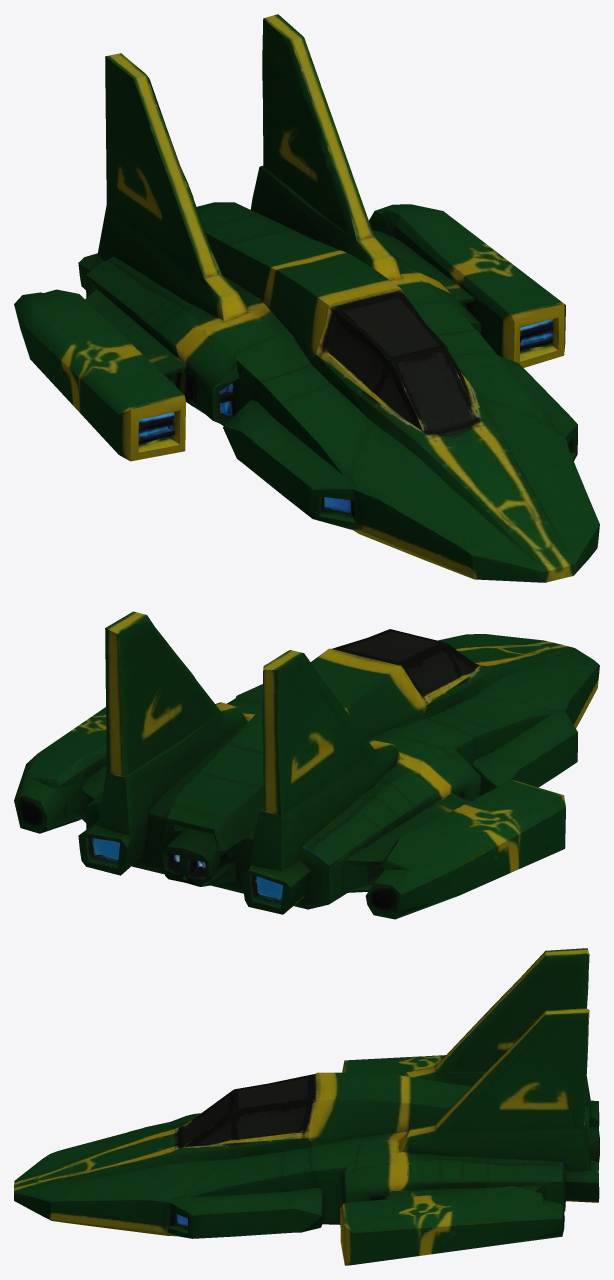
File: nave_12.obj
3 views of the same model, one above another, from view 1: azimuth 30°, elevation 25°; view 2: azimuth 150°, elevation 25°; view 3: azimuth 270°, elevation 25° (orthographic). The views are drawn at different scales.
Visible parts, largest first — view 1: geometry_0; view 2: geometry_0; view 3: geometry_0.
Part boxes in pixels (left/top/right/bottom): geometry_0: left=14, top=14, right=599, bottom=582; geometry_0: left=14, top=611, right=599, bottom=919; geometry_0: left=14, top=948, right=599, bottom=1265.
Bounding box in the file's own units: 4.82 × 2.98 × 7.
Materials: 1 (1 with a texture image).
